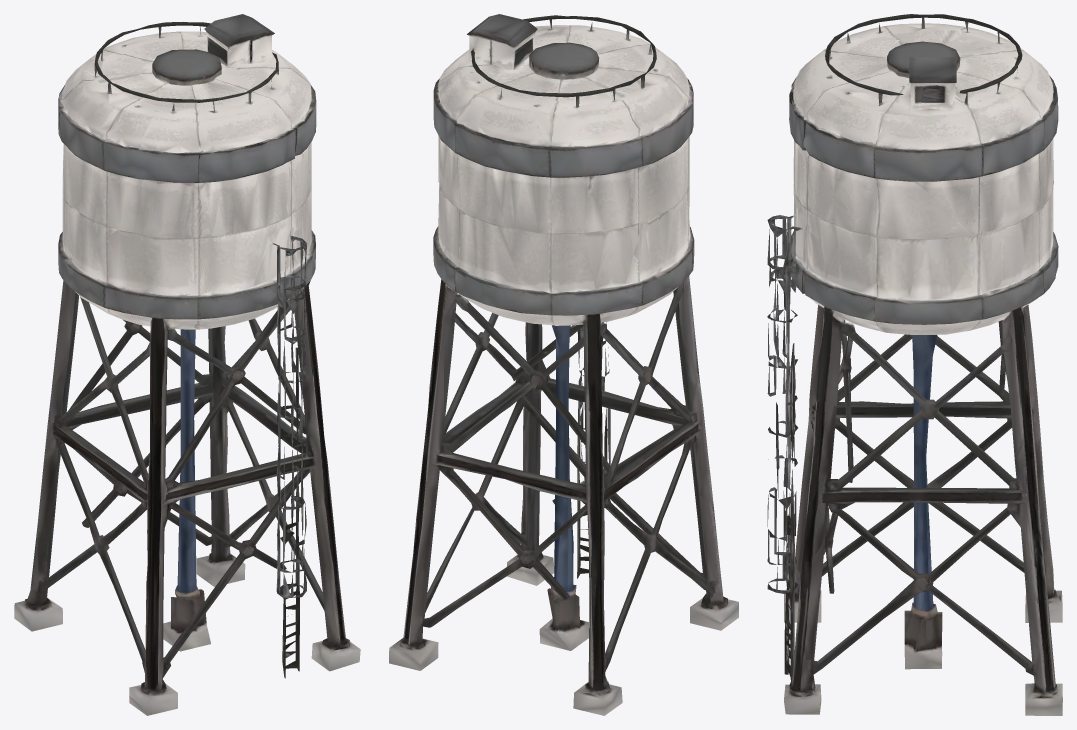
File: waterTower.glb
3 views of the same model, side by side, from view 1: azimuth 30°, elevation 25°; view 2: azimuth 150°, elevation 25°; view 3: azimuth 270°, elevation 25° (orthographic). The views are drawn at different scales.
Visible parts, largest first — view 1: waterTower; view 2: waterTower; view 3: waterTower.
Part boxes in pixels (<box>): waterTower: <box>14,14,360,715</box>; waterTower: <box>389,14,738,715</box>; waterTower: <box>767,14,1062,715</box>.
Size of the model in its own units: 9.36 by 24 by 10.27.
1 material, 1 textured.
